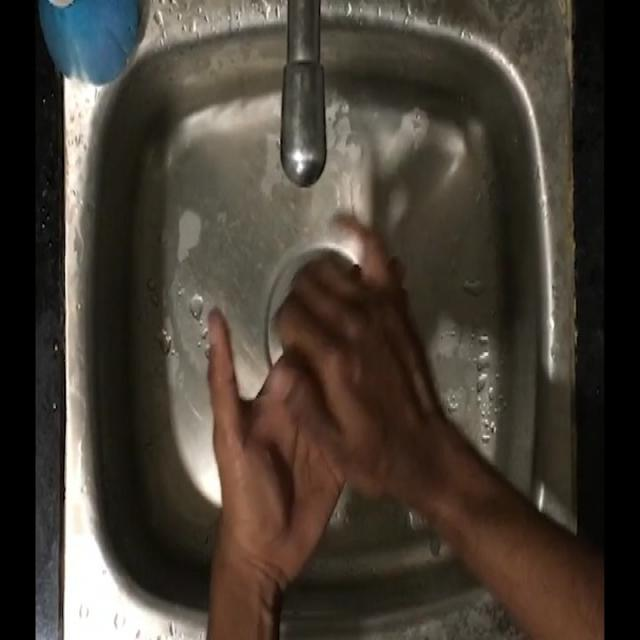step_5: (195, 233, 448, 572)
